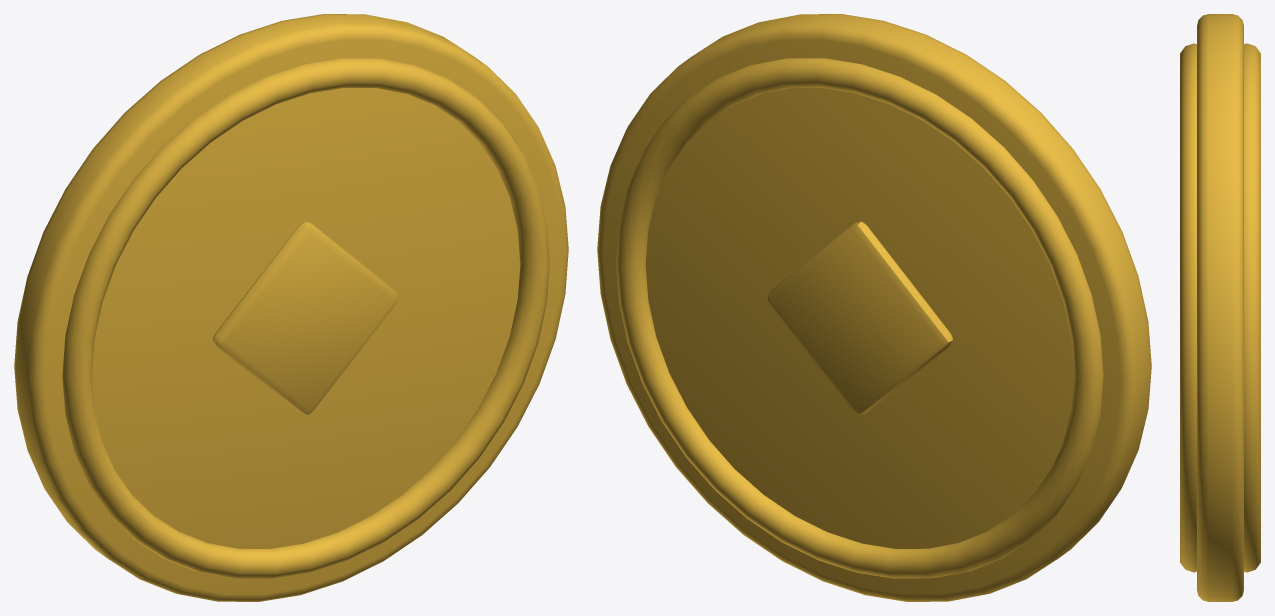
File: moeda.glb
The picture shows the model from 3 angles, left to right: view 1: azimuth 30°, elevation 25°; view 2: azimuth 150°, elevation 25°; view 3: azimuth 270°, elevation 25°; orthographic projection. The views are drawn at different scales.
Visible parts, largest first — view 1: p; view 2: p; view 3: p.
Part boxes in pixels (x1=…): p: x1=14, y1=14, x2=568, y2=601; p: x1=597, y1=14, x2=1151, y2=601; p: x1=1180, y1=14, x2=1260, y2=601.
Bounding box in the file's own units: 0.2 × 0.2 × 0.0275.
